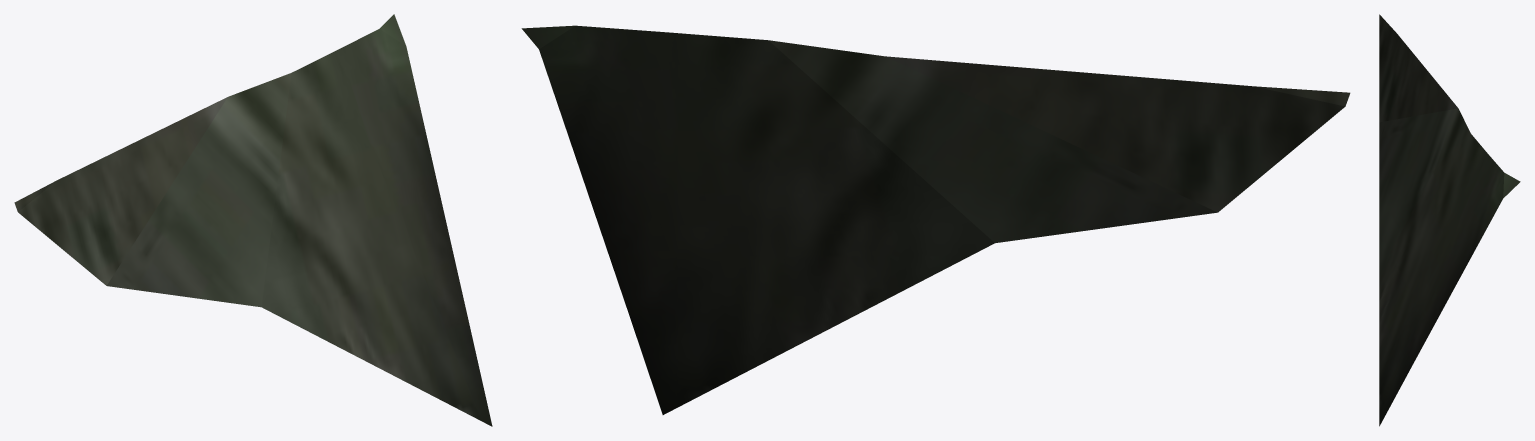
3 renders of one model, left to right at view 1: azimuth 30°, elevation 25°; view 2: azimuth 150°, elevation 25°; view 3: azimuth 270°, elevation 25°, orthographic. The views are drawn at different scales.
Bounding box in the file's own units: 1.56 × 1.07 × 0.5572.
1 material, 1 textured.
